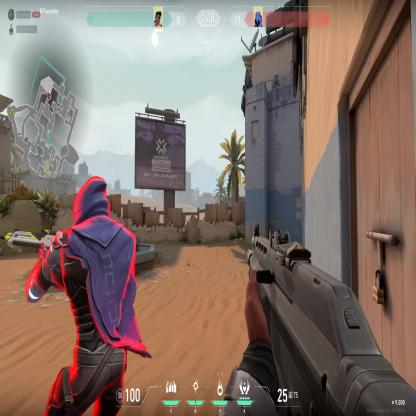enemy: (23, 171, 154, 382)
